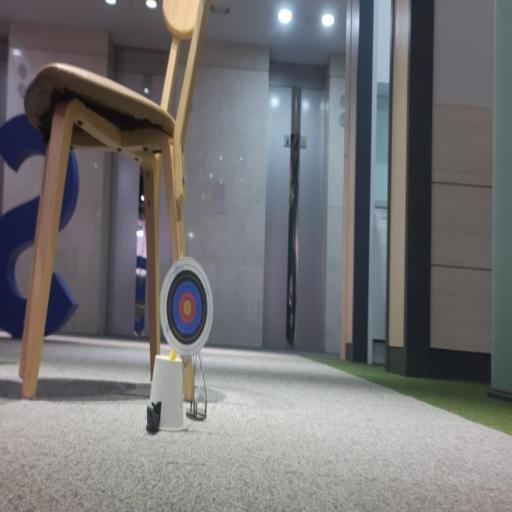target: (160, 257, 213, 355)
